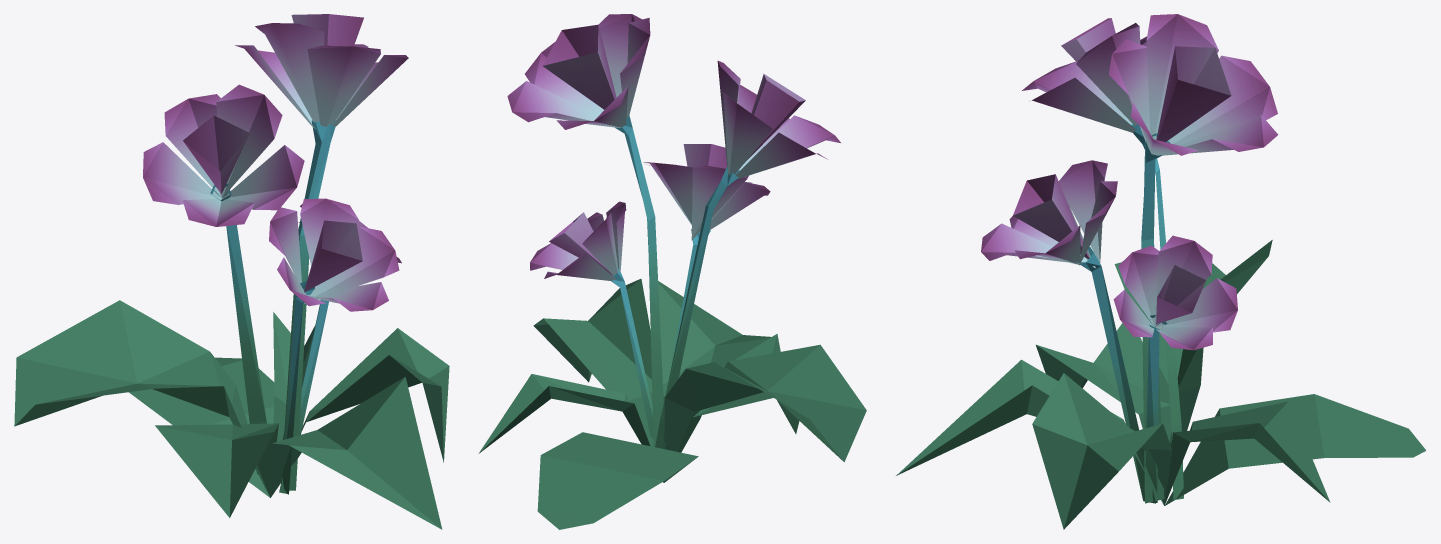
The model's file is plant_M03.FBX.
The picture shows the model from 3 angles, left to right: view 1: azimuth 30°, elevation 25°; view 2: azimuth 150°, elevation 25°; view 3: azimuth 270°, elevation 25°; orthographic projection. The views are drawn at different scales.
Parts seen in each view (by area): view 1: plant_M03; view 2: plant_M03; view 3: plant_M03.
Part boxes in pixels (<box>): plant_M03: <box>14,14,449,529</box>; plant_M03: <box>478,14,866,529</box>; plant_M03: <box>896,14,1425,529</box>.
Size of the model in its own units: 84.26 by 100 by 96.11.
Materials: 1 (1 with a texture image).
